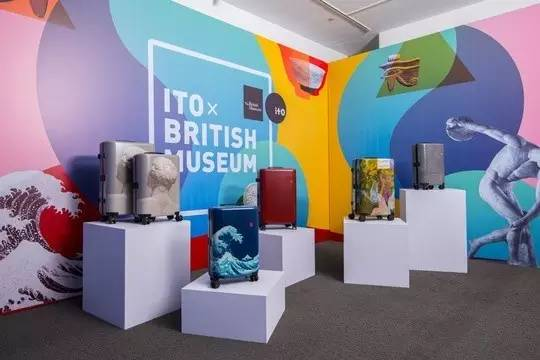suitcase: (207, 204, 262, 288), (348, 158, 397, 220), (257, 164, 300, 231), (412, 142, 446, 189)
